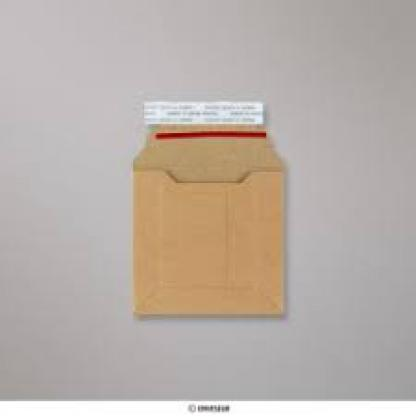CARDBOARD: (129, 100, 285, 312)
